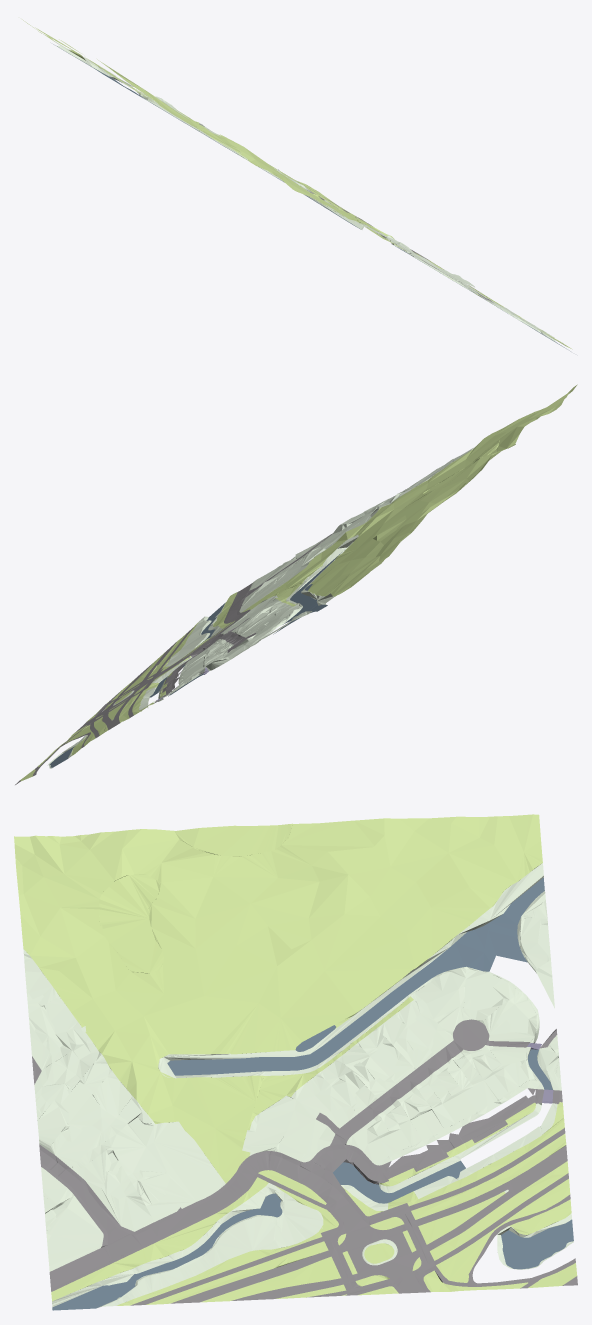
The picture shows the model from 3 angles, top to bottom: view 1: azimuth 30°, elevation 25°; view 2: azimuth 150°, elevation 25°; view 3: azimuth 270°, elevation 25°; orthographic projection. The views are drawn at different scales.
Bounding box in the file's own units: 215 × 161 × 267.
